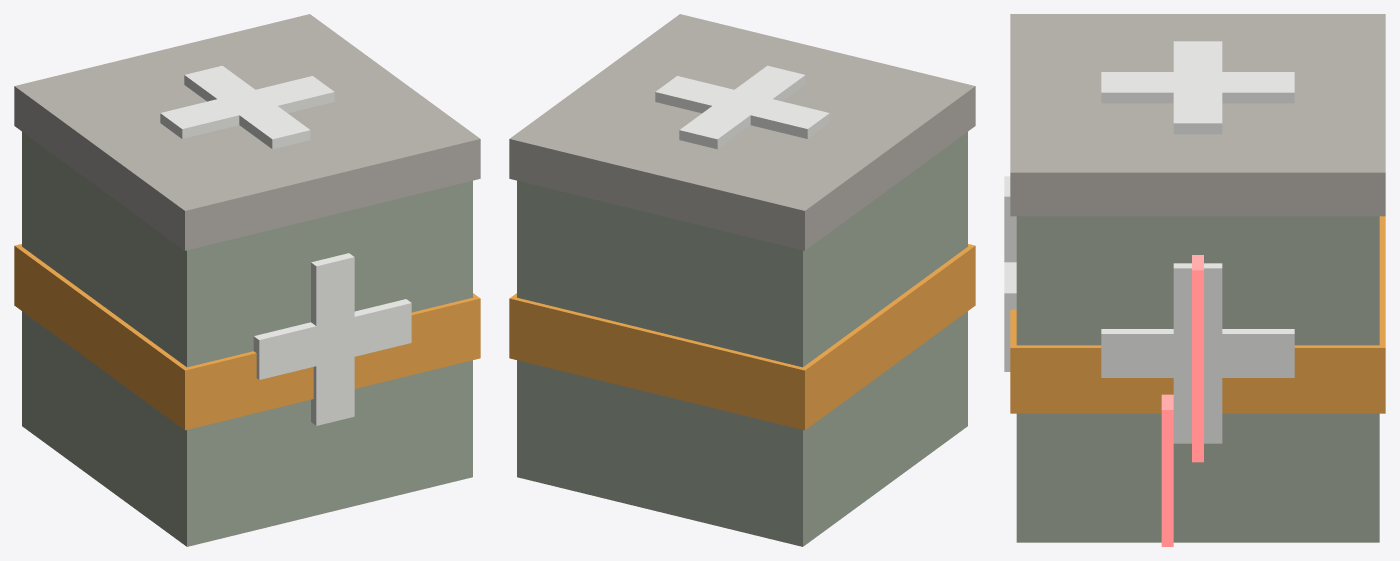
Rendered from SupplyCrate_Med.glb.
3 renders of one model, left to right at view 1: azimuth 30°, elevation 25°; view 2: azimuth 150°, elevation 25°; view 3: azimuth 270°, elevation 25°, orthographic. The views are drawn at different scales.
Bounding box in the file's own units: 0.68 × 0.7 × 0.63.
